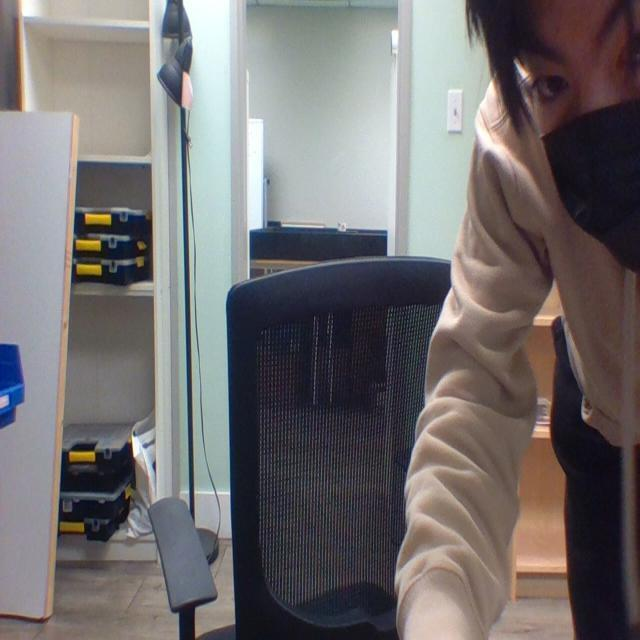chair: (150, 254, 482, 638)
